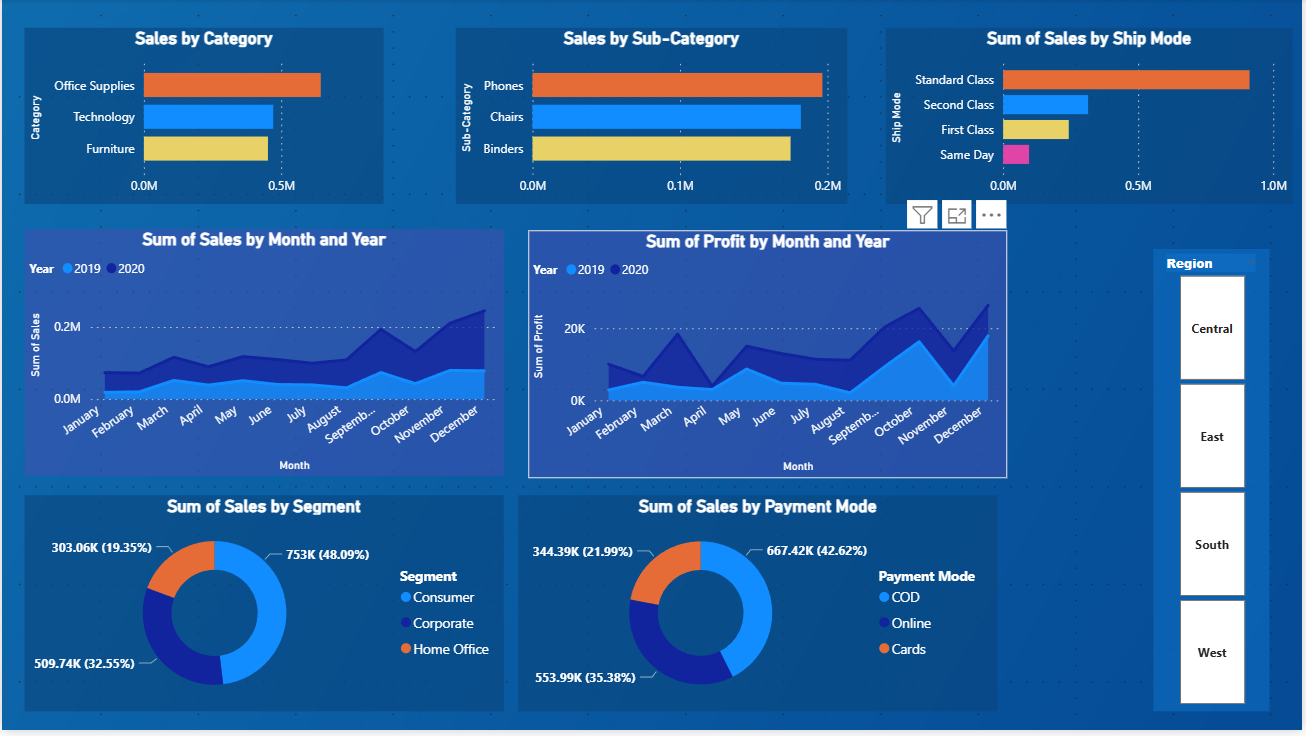

What the dashboard file says about the page in this screenshot:
{"tool":"powerbi","page":{"name":"Page 1","canvas":[1280,720],"ordinal":0},"visuals":[{"type":"barChart","title":"Sales by Category","fields":{"Category":["SuperStore_Sales_Dataset.Category"],"Y":["Sum(SuperStore_Sales_Dataset.Sales)"]},"box":[22.3,27.8,353.4,173.9],"z":0},{"type":"barChart","title":"Sales by Sub-Category","fields":{"Y":["Sum(SuperStore_Sales_Dataset.Sales)"],"Category":["SuperStore_Sales_Dataset.Sub-Category"]},"box":[446.6,27.8,385.4,173.9],"z":1},{"type":"barChart","fields":{"Y":["Sum(SuperStore_Sales_Dataset.Sales)"],"Category":["SuperStore_Sales_Dataset.Ship Mode"]},"box":[869.6,27.8,400.7,173.9],"z":2},{"type":"stackedAreaChart","fields":{"Y":["Sum(SuperStore_Sales_Dataset.Sales)"],"Category":["SuperStore_Sales_Dataset.Order Date.Variation.Date Hierarchy.Month"],"Series":["SuperStore_Sales_Dataset.Order Date.Variation.Date Hierarchy.Year"]},"box":[22.3,226.8,471.7,243.5],"z":3},{"type":"stackedAreaChart","fields":{"Category":["SuperStore_Sales_Dataset.Order Date.Variation.Date Hierarchy.Month"],"Series":["SuperStore_Sales_Dataset.Order Date.Variation.Date Hierarchy.Year"],"Y":["Sum(SuperStore_Sales_Dataset.Profit)"]},"box":[517.6,228.2,471.7,243.5],"z":4},{"type":"donutChart","fields":{"Category":["SuperStore_Sales_Dataset.Segment"],"Y":["Sum(SuperStore_Sales_Dataset.Sales)"]},"box":[22.3,488.3,471.7,212.9],"z":5},{"type":"donutChart","fields":{"Y":["Sum(SuperStore_Sales_Dataset.Sales)"],"Category":["SuperStore_Sales_Dataset.Payment Mode"]},"box":[507.8,488.3,471.7,212.9],"z":6},{"type":"slicer","fields":{"Values":["SuperStore_Sales_Dataset.Region"]},"box":[1133.9,246.3,114.1,455],"z":7}]}

Visuals, with their boxes in screenshot pixels (x1, y1, x2, y2), scaled from the page's 1280x720 canvas onto the 1306x736 screenshot:
"Sales by Category" barChart: {"x1": 23, "y1": 28, "x2": 383, "y2": 206}
"Sales by Sub-Category" barChart: {"x1": 456, "y1": 28, "x2": 849, "y2": 206}
barChart - Sum(SuperStore_Sales_Dataset.Sales) x SuperStore_Sales_Dataset.Ship Mode: {"x1": 887, "y1": 28, "x2": 1296, "y2": 206}
stackedAreaChart - Sum(SuperStore_Sales_Dataset.Sales) x SuperStore_Sales_Dataset.Order Date.Variation.Date Hierarchy.Month: {"x1": 23, "y1": 232, "x2": 504, "y2": 481}
stackedAreaChart - SuperStore_Sales_Dataset.Order Date.Variation.Date Hierarchy.Month x SuperStore_Sales_Dataset.Order Date.Variation.Date Hierarchy.Year: {"x1": 528, "y1": 233, "x2": 1009, "y2": 482}
donutChart - SuperStore_Sales_Dataset.Segment x Sum(SuperStore_Sales_Dataset.Sales): {"x1": 23, "y1": 499, "x2": 504, "y2": 717}
donutChart - Sum(SuperStore_Sales_Dataset.Sales) x SuperStore_Sales_Dataset.Payment Mode: {"x1": 518, "y1": 499, "x2": 999, "y2": 717}
slicer - SuperStore_Sales_Dataset.Region: {"x1": 1157, "y1": 252, "x2": 1273, "y2": 717}
